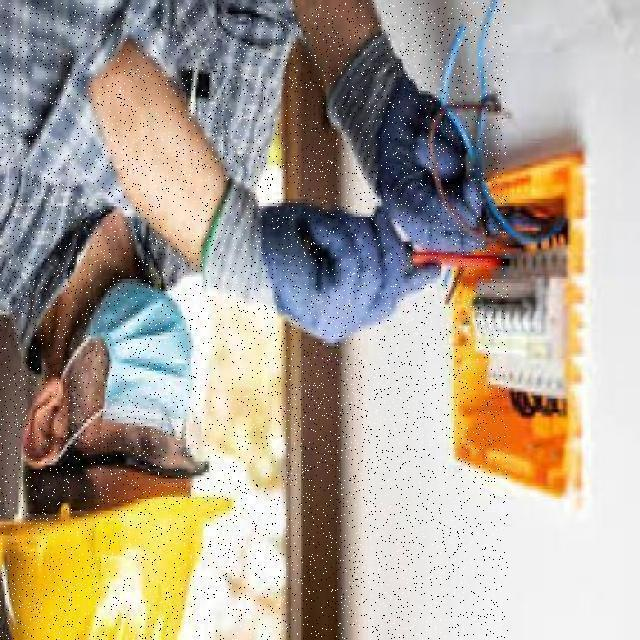gloves: (200, 171, 431, 350), (317, 31, 499, 256)
goggles: (43, 421, 221, 482)
